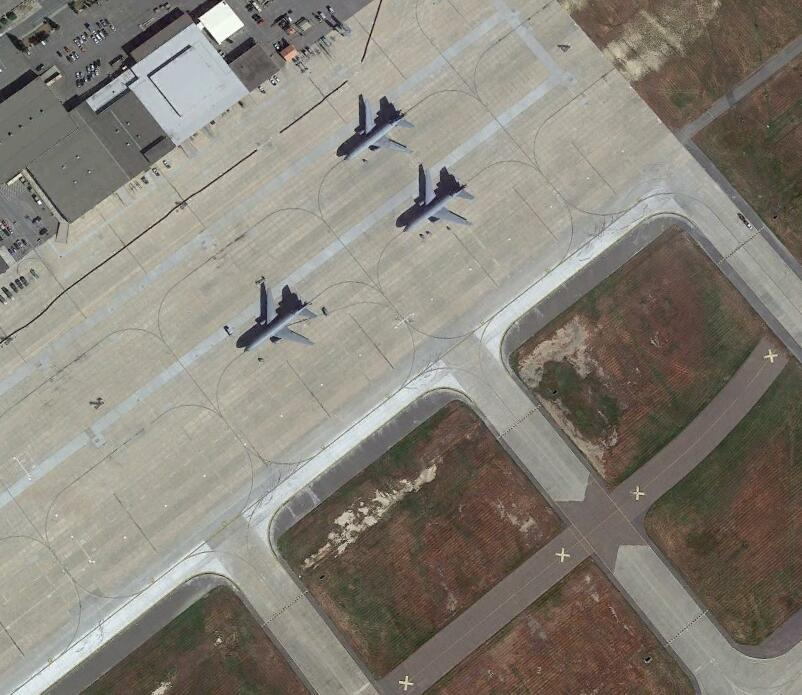A18: (339, 94, 415, 163), (242, 288, 319, 356), (406, 166, 474, 237)
